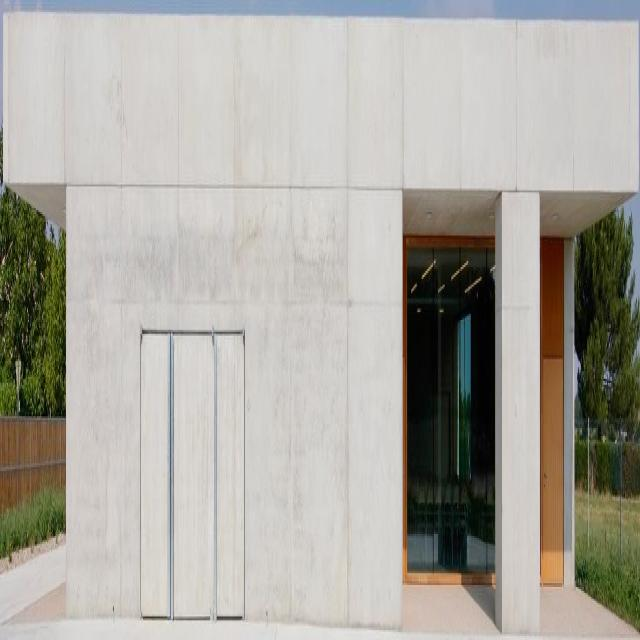door: (543, 348, 563, 579)
window: (404, 231, 496, 574)
